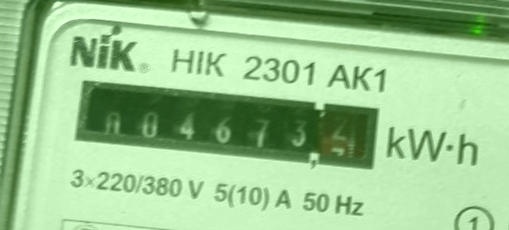0: (102, 105, 125, 137), (140, 106, 161, 139)
2: (330, 109, 353, 143)
3: (290, 114, 310, 150)
4: (178, 106, 199, 143)
6: (212, 109, 236, 145)
7: (249, 113, 275, 152)
screen: (71, 73, 386, 179)
